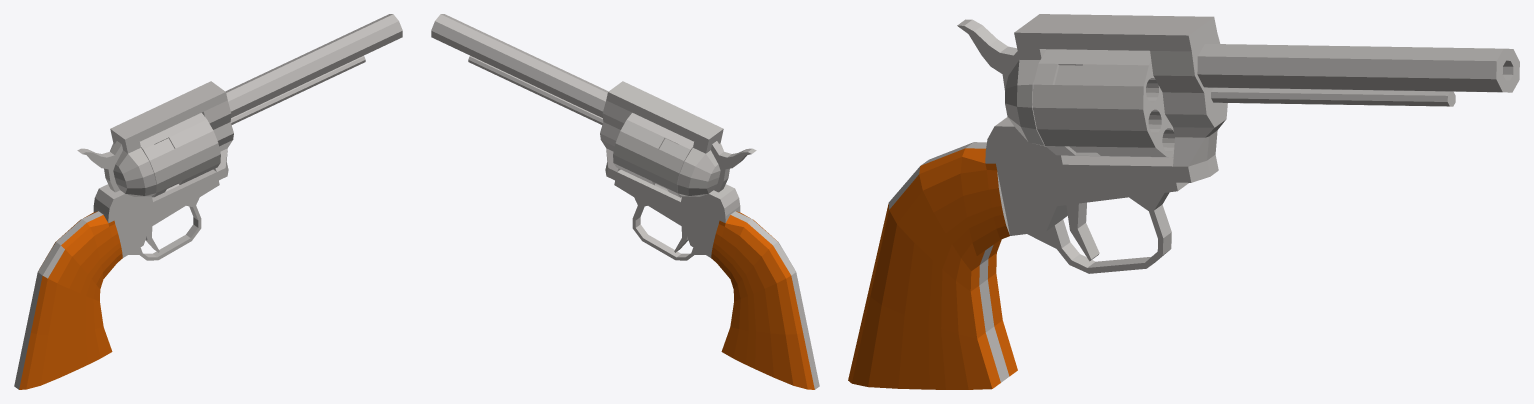
File: n_revolver.fbx
3 views of the same model, side by side, from view 1: azimuth 30°, elevation 25°; view 2: azimuth 150°, elevation 25°; view 3: azimuth 330°, elevation 25° (orthographic). The views are drawn at different scales.
Visible parts, largest first — view 1: rotator; view 2: rotator; view 3: rotator.
Part boxes in pixels (x1=…): rotator: x1=14, y1=14, x2=402, y2=389; rotator: x1=431, y1=14, x2=819, y2=389; rotator: x1=848, y1=14, x2=1519, y2=389.
Bounding box in the file's own units: 2097 × 1480 × 320.
